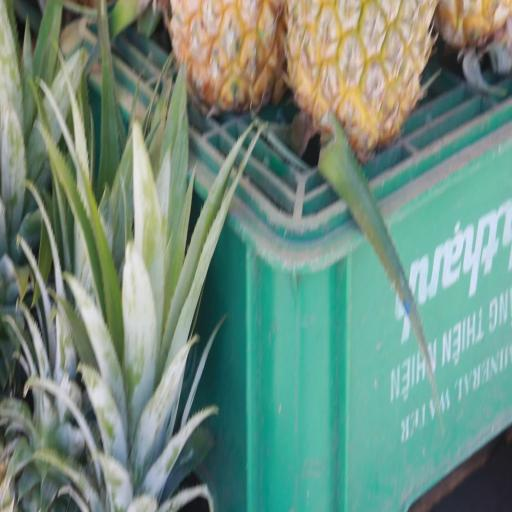Pineapple - v8 v1: (282, 0, 440, 163), (168, 0, 289, 121)
